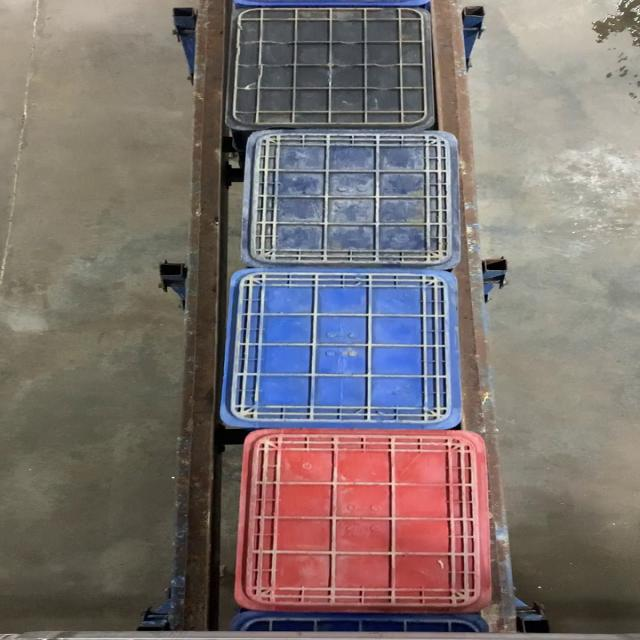Box: (235, 429, 492, 612), (218, 270, 458, 428), (237, 130, 463, 270), (226, 6, 442, 132)
